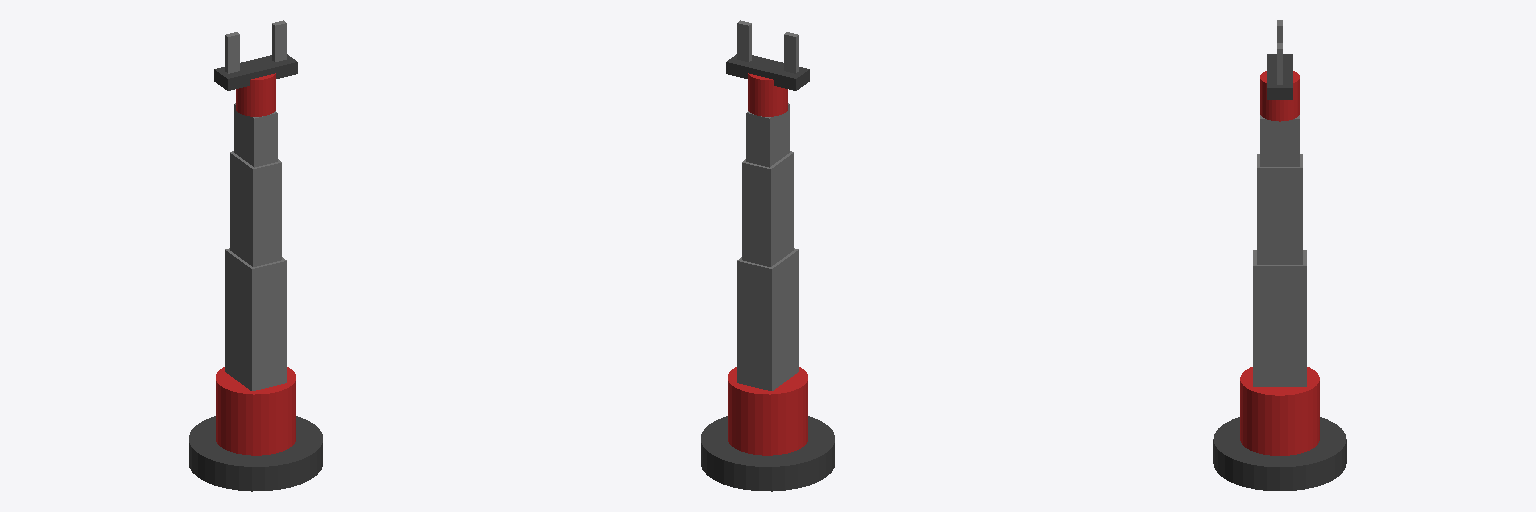
The robot description file, URDF, robot "te_arm":
<?xml version="1.0"?>
<!-- 
  TE Arm URDF - 手 (VOIGHT CLUSTER)
  ==================================
  6-DOF robot arm model for visualization and motion planning.
  
  Adjust link lengths and offsets to match your physical arm!
-->
<robot name="te_arm">
  
  <!-- Base Link (fixed to world) -->
  <link name="base_link">
    <visual>
      <geometry>
        <cylinder radius="0.05" length="0.02"/>
      </geometry>
      <material name="dark_grey">
        <color rgba="0.3 0.3 0.3 1.0"/>
      </material>
    </visual>
  </link>
  
  <!-- Base Rotation (J1) -->
  <joint name="te_base_joint" type="revolute">
    <parent link="base_link"/>
    <child link="base_rotation"/>
    <origin xyz="0 0 0.01" rpy="0 0 0"/>
    <axis xyz="0 0 1"/>
    <limit lower="-1.57" upper="1.57" effort="10" velocity="1.0"/>
  </joint>
  
  <link name="base_rotation">
    <visual>
      <origin xyz="0 0 0.025"/>
      <geometry>
        <cylinder radius="0.03" length="0.05"/>
      </geometry>
      <material name="red">
        <color rgba="0.8 0.2 0.2 1.0"/>
      </material>
    </visual>
  </link>
  
  <!-- Shoulder (J2) -->
  <joint name="te_shoulder_joint" type="revolute">
    <parent link="base_rotation"/>
    <child link="shoulder"/>
    <origin xyz="0 0 0.05" rpy="0 0 0"/>
    <axis xyz="0 1 0"/>
    <limit lower="-1.57" upper="1.57" effort="10" velocity="1.0"/>
  </joint>
  
  <link name="shoulder">
    <visual>
      <origin xyz="0 0 0.05"/>
      <geometry>
        <box size="0.03 0.04 0.1"/>
      </geometry>
      <material name="grey">
        <color rgba="0.5 0.5 0.5 1.0"/>
      </material>
    </visual>
  </link>
  
  <!-- Upper Arm (Elbow J3) -->
  <joint name="te_elbow_joint" type="revolute">
    <parent link="shoulder"/>
    <child link="upper_arm"/>
    <origin xyz="0 0 0.1" rpy="0 0 0"/>
    <axis xyz="0 1 0"/>
    <limit lower="-1.57" upper="1.57" effort="10" velocity="1.0"/>
  </joint>
  
  <link name="upper_arm">
    <visual>
      <origin xyz="0 0 0.04"/>
      <geometry>
        <box size="0.025 0.035 0.08"/>
      </geometry>
      <material name="grey"/>
    </visual>
  </link>
  
  <!-- Wrist Pitch (J4) -->
  <joint name="te_wrist_pitch_joint" type="revolute">
    <parent link="upper_arm"/>
    <child link="wrist_pitch"/>
    <origin xyz="0 0 0.08" rpy="0 0 0"/>
    <axis xyz="0 1 0"/>
    <limit lower="-1.57" upper="1.57" effort="5" velocity="1.0"/>
  </joint>
  
  <link name="wrist_pitch">
    <visual>
      <origin xyz="0 0 0.02"/>
      <geometry>
        <box size="0.02 0.03 0.04"/>
      </geometry>
      <material name="grey"/>
    </visual>
  </link>
  
  <!-- Wrist Roll (J5) -->
  <joint name="te_wrist_roll_joint" type="revolute">
    <parent link="wrist_pitch"/>
    <child link="wrist_roll"/>
    <origin xyz="0 0 0.04" rpy="0 0 0"/>
    <axis xyz="0 0 1"/>
    <limit lower="-3.14" upper="3.14" effort="5" velocity="1.0"/>
  </joint>
  
  <link name="wrist_roll">
    <visual>
      <origin xyz="0 0 0.015"/>
      <geometry>
        <cylinder radius="0.015" length="0.03"/>
      </geometry>
      <material name="red"/>
    </visual>
  </link>
  
  <!-- Gripper Base -->
  <joint name="te_gripper_joint" type="revolute">
    <parent link="wrist_roll"/>
    <child link="gripper_base"/>
    <origin xyz="0 0 0.03" rpy="0 0 0"/>
    <axis xyz="1 0 0"/>
    <limit lower="0" upper="1.57" effort="2" velocity="1.0"/>
  </joint>
  
  <link name="gripper_base">
    <visual>
      <geometry>
        <box size="0.06 0.02 0.01"/>
      </geometry>
      <material name="dark_grey"/>
    </visual>
  </link>
  
  <!-- Gripper Fingers (simplified - mimic joint) -->
  <link name="gripper_left">
    <visual>
      <origin xyz="0 0 0.015"/>
      <geometry>
        <box size="0.01 0.005 0.03"/>
      </geometry>
      <material name="grey"/>
    </visual>
  </link>
  
  <joint name="gripper_left_joint" type="fixed">
    <parent link="gripper_base"/>
    <child link="gripper_left"/>
    <origin xyz="-0.02 0 0.005"/>
  </joint>
  
  <link name="gripper_right">
    <visual>
      <origin xyz="0 0 0.015"/>
      <geometry>
        <box size="0.01 0.005 0.03"/>
      </geometry>
      <material name="grey"/>
    </visual>
  </link>
  
  <joint name="gripper_right_joint" type="fixed">
    <parent link="gripper_base"/>
    <child link="gripper_right"/>
    <origin xyz="0.02 0 0.005"/>
  </joint>
  
  <!-- End Effector Frame -->
  <link name="end_effector"/>
  
  <joint name="end_effector_joint" type="fixed">
    <parent link="gripper_base"/>
    <child link="end_effector"/>
    <origin xyz="0 0 0.04"/>
  </joint>
  
</robot>

--- Render facts (derived) ---
Views: 3 orthographic renders of the robot side by side, from view 1: azimuth 30°, elevation 25°; view 2: azimuth 150°, elevation 25°; view 3: azimuth 270°, elevation 25°.
Robot: te_arm — 10 links, 9 joints (6 revolute, 3 fixed); root link base_link; default pose: every joint at zero.
Visible links, largest first — view 1: shoulder, base_link, base_rotation, upper_arm, wrist_pitch, gripper_base, wrist_roll, gripper_left, gripper_right; view 2: shoulder, base_link, base_rotation, upper_arm, wrist_pitch, gripper_base, wrist_roll, gripper_left, gripper_right; view 3: shoulder, base_link, base_rotation, upper_arm, wrist_pitch, wrist_roll, gripper_base.
Link boxes in pixels (box(x1,y1,x2,y2)): shoulder: box(225, 248, 286, 390); base_link: box(189, 416, 322, 491); base_rotation: box(216, 367, 295, 455); upper_arm: box(230, 151, 281, 266); wrist_pitch: box(234, 103, 277, 167); gripper_base: box(214, 54, 297, 90); wrist_roll: box(236, 73, 275, 116); gripper_left: box(225, 32, 239, 73); gripper_right: box(272, 20, 286, 61); shoulder: box(737, 248, 798, 390); base_link: box(701, 416, 834, 491); base_rotation: box(728, 367, 807, 455); upper_arm: box(742, 151, 793, 266); wrist_pitch: box(746, 103, 789, 167); gripper_base: box(726, 54, 809, 90); wrist_roll: box(748, 73, 787, 116); gripper_left: box(784, 32, 798, 73); gripper_right: box(737, 20, 751, 61); shoulder: box(1253, 250, 1306, 386); base_link: box(1213, 417, 1346, 490); base_rotation: box(1240, 367, 1319, 455); upper_arm: box(1257, 154, 1302, 264); wrist_pitch: box(1260, 115, 1299, 166); wrist_roll: box(1260, 71, 1299, 121); gripper_base: box(1267, 54, 1292, 99).
Bounding box of the posed robot: 0.1 × 0.1 × 0.355 m (x, y, z).
Geometry: primitives only (box / cylinder / sphere), no mesh files.